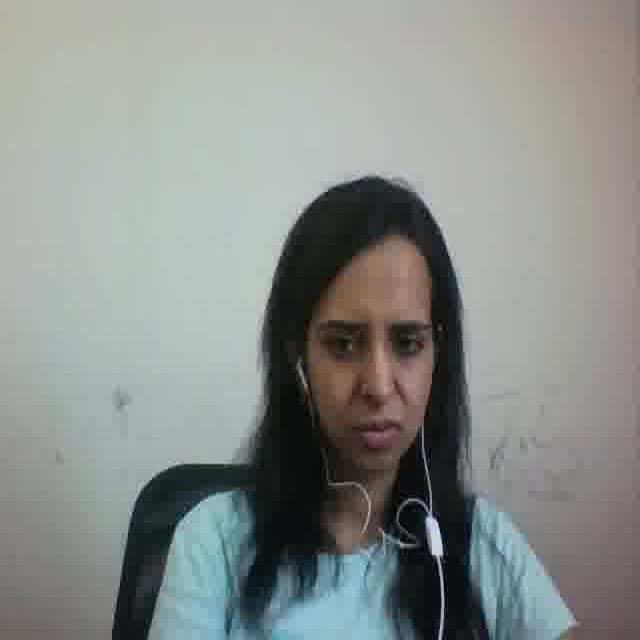Frustration: (305, 259, 432, 477)
